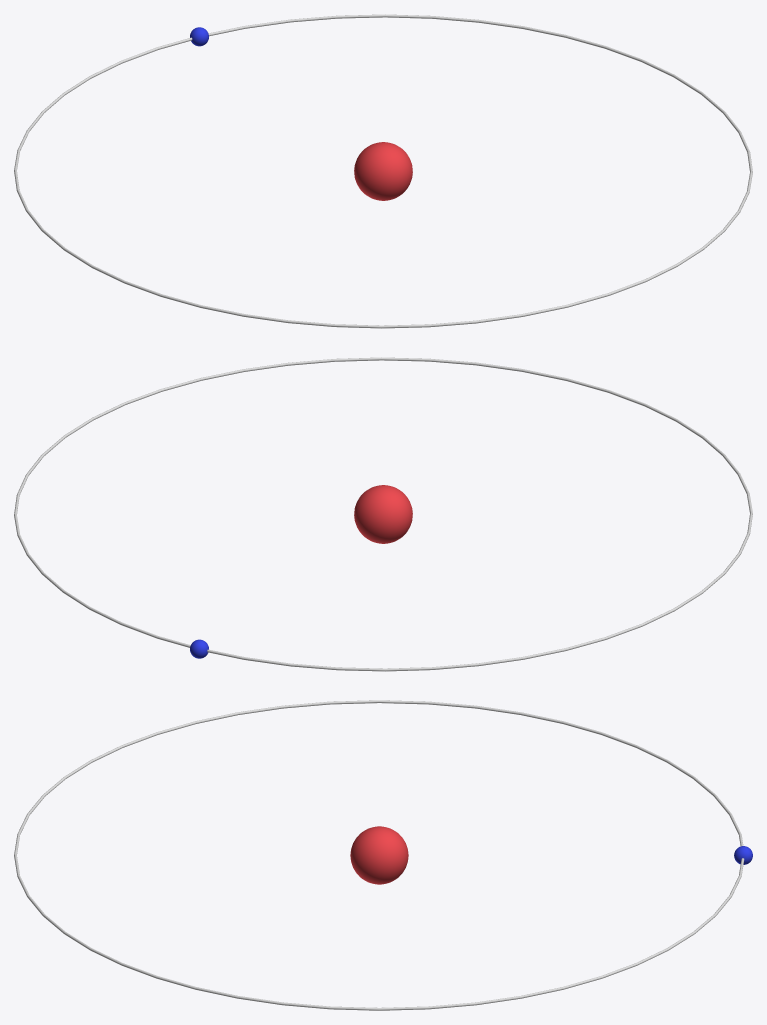
The model's file is Wasserstoff.glb.
The picture shows the model from 3 angles, top to bottom: view 1: azimuth 30°, elevation 25°; view 2: azimuth 150°, elevation 25°; view 3: azimuth 270°, elevation 25°; orthographic projection.
Visible parts, largest first — view 1: K-Schale, Proton 1; view 2: K-Schale, Proton 1; view 3: K-Schale, Proton 1.
Part boxes in pixels (left/top/right/bottom): K-Schale: left=14, top=14, right=752, bottom=328; Proton 1: left=354, top=142, right=412, bottom=200; K-Schale: left=14, top=357, right=752, bottom=671; Proton 1: left=354, top=485, right=412, bottom=543; K-Schale: left=14, top=700, right=744, bottom=1010; Proton 1: left=350, top=826, right=408, bottom=884.
Size of the model in its own units: 10.04 by 0.8 by 10.15.
